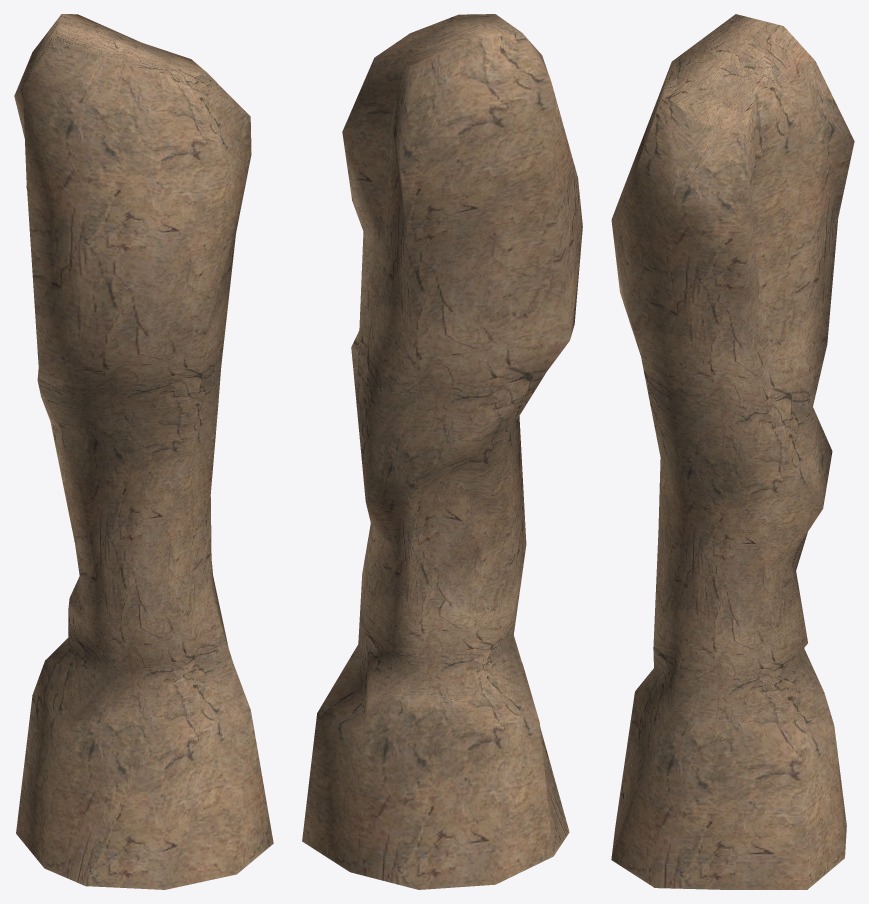
File: rock_tatt_spire_smooth_a1_l1.fbx
3 views of the same model, side by side, from view 1: azimuth 30°, elevation 25°; view 2: azimuth 150°, elevation 25°; view 3: azimuth 270°, elevation 25° (orthographic). The views are drawn at different scales.
Parts seen in each view (by area): view 1: mesh_node; view 2: mesh_node; view 3: mesh_node.
Part boxes in pixels (x1,y1,x2,y2): mesh_node: (14, 14, 273, 889); mesh_node: (302, 14, 582, 889); mesh_node: (611, 14, 854, 889).
Bounding box in the file's own units: 17.94 × 65.89 × 18.32.
Materials: 1 (1 with a texture image).
